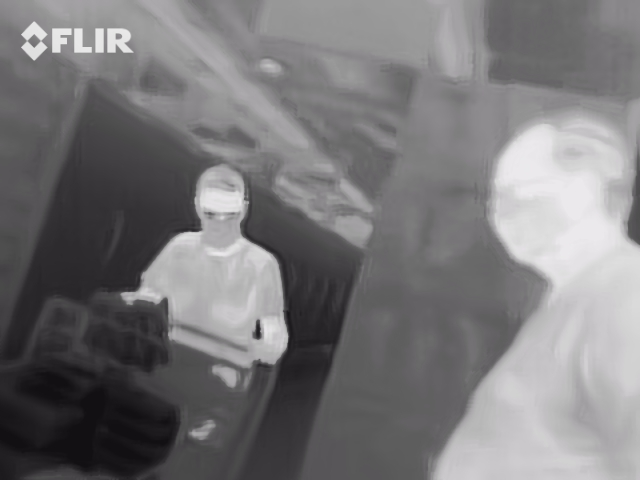head: (488, 105, 634, 268), (192, 163, 250, 249)
